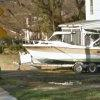Boat: (16, 24, 100, 79)
